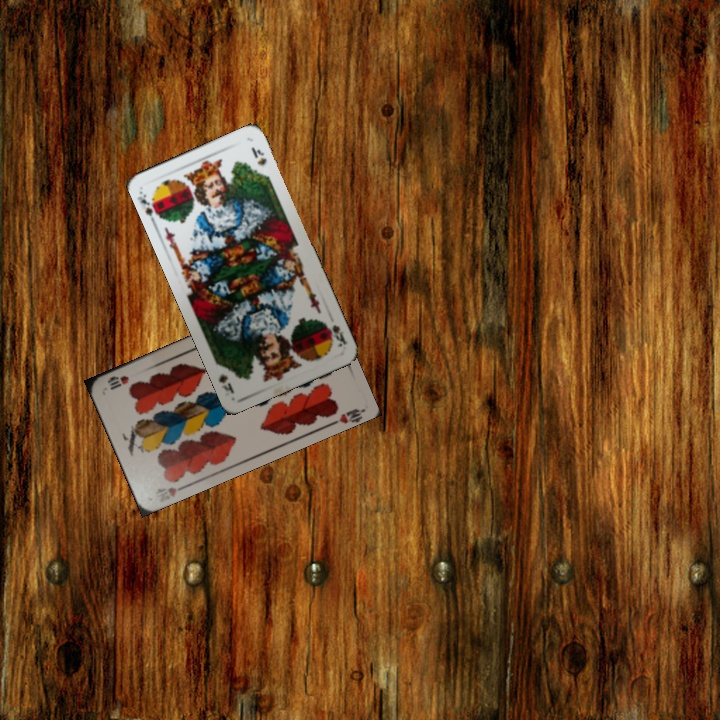H10: (164, 481, 190, 499)
SK: (134, 187, 165, 226), (321, 318, 350, 350)
